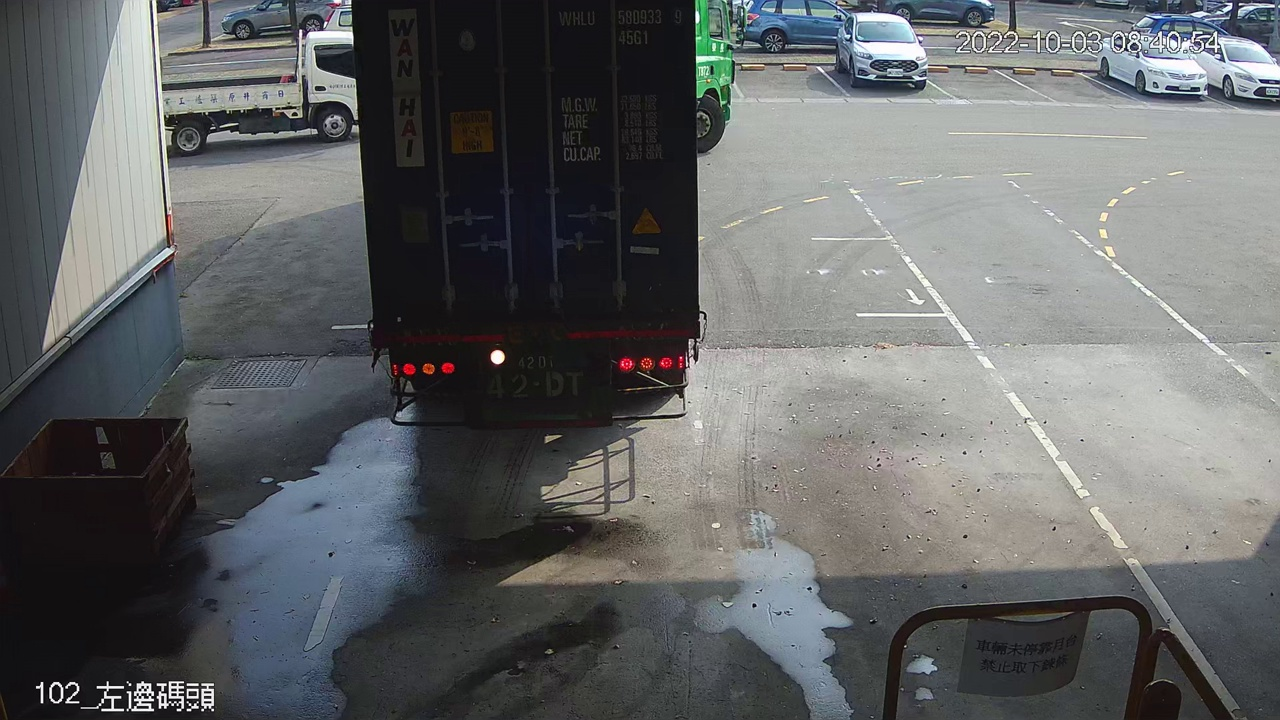container: (552, 4, 692, 50)
